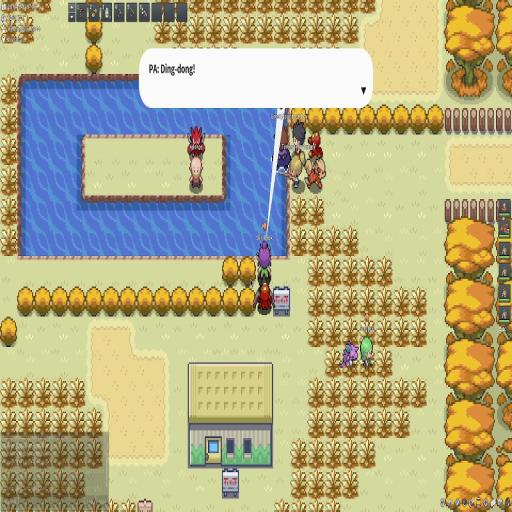DINGDONG: (146, 62, 196, 76)
